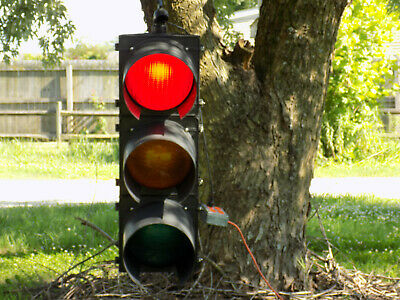trafficlight_red: (117, 35, 199, 277)
